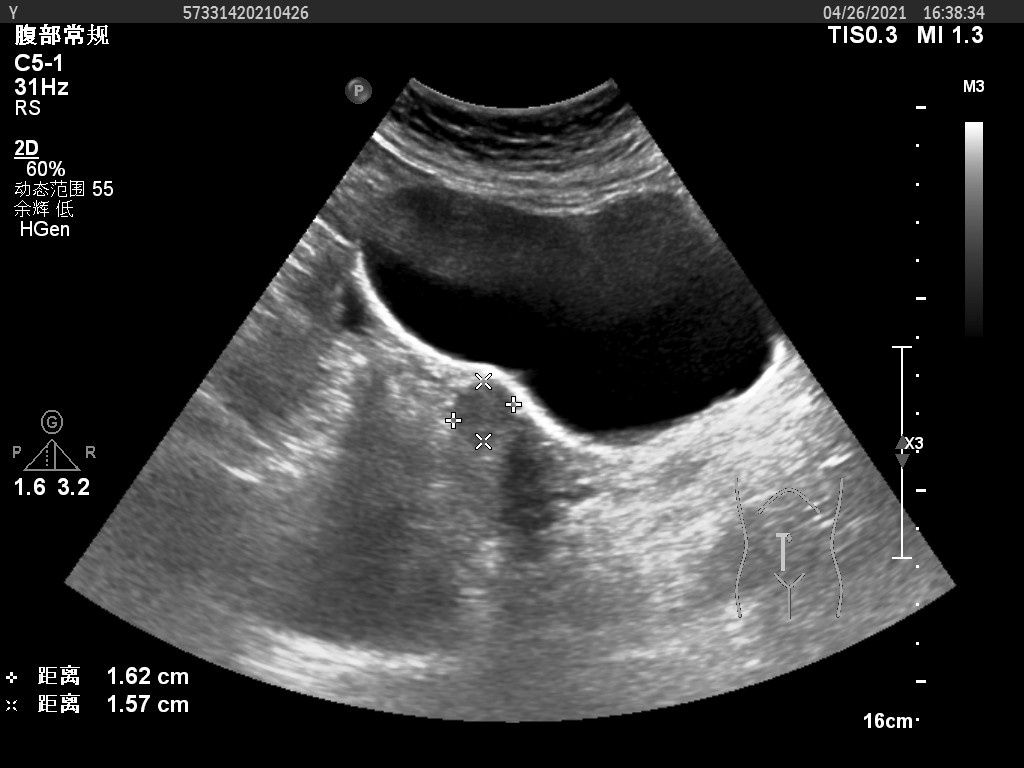肌瘤: (455, 380, 513, 443)
